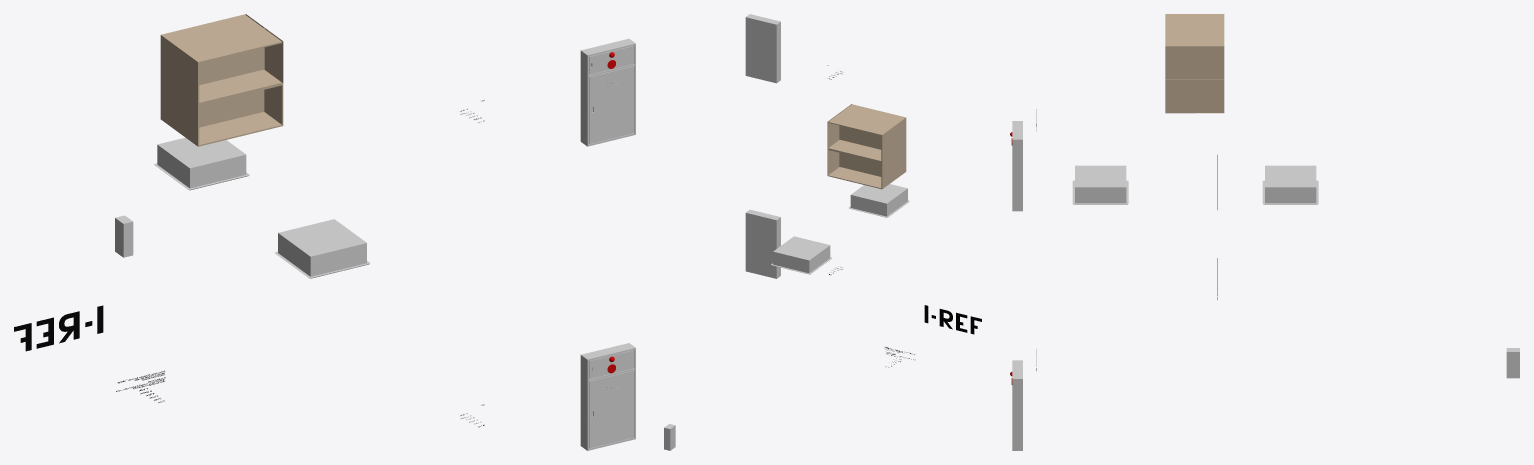
3 views of the same model, side by side, from view 1: azimuth 30°, elevation 25°; view 2: azimuth 150°, elevation 25°; view 3: azimuth 270°, elevation 25° (orthographic). The views are drawn at different scales.
Bounding box in the file's own units: 7.61 × 5.85 × 8.68.
